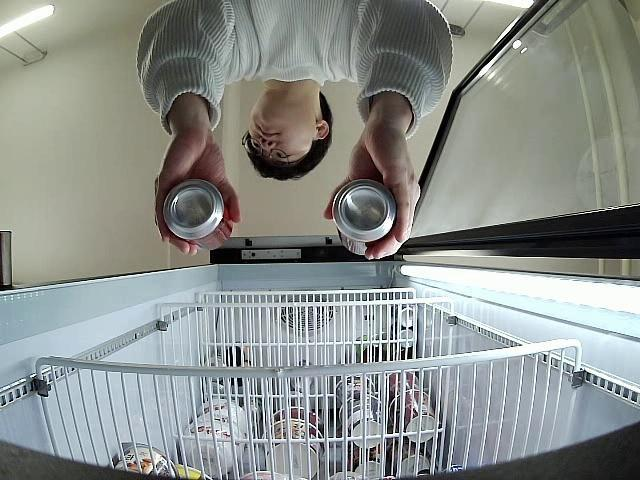11_cocaColaZero: (162, 177, 234, 249), (332, 180, 397, 256)
